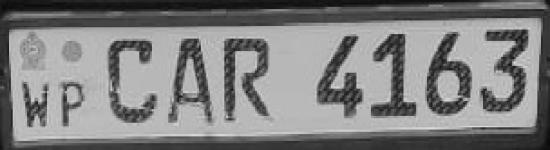1: (371, 28, 422, 126)
4: (303, 28, 368, 123)
6: (477, 21, 531, 118), (423, 26, 475, 123)
A: (162, 31, 221, 131)
C: (103, 31, 161, 131)
P: (56, 76, 91, 132)
R: (223, 31, 282, 128)
W: (14, 73, 57, 135)
